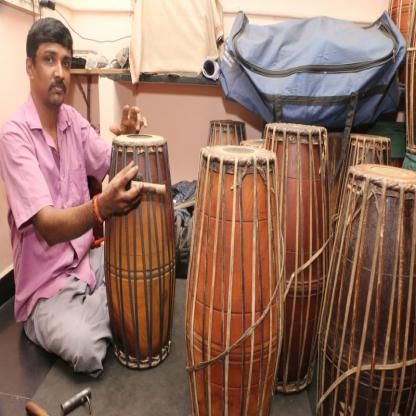Mridangam: (307, 160, 416, 412), (186, 139, 281, 408), (100, 130, 179, 376)
